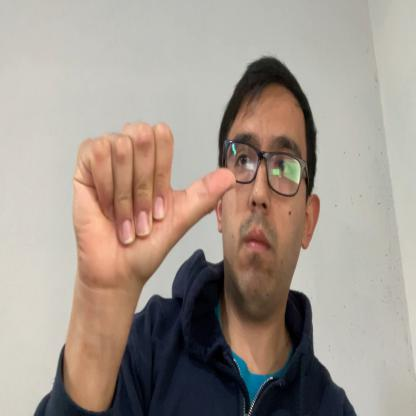A: (74, 120, 236, 283)
